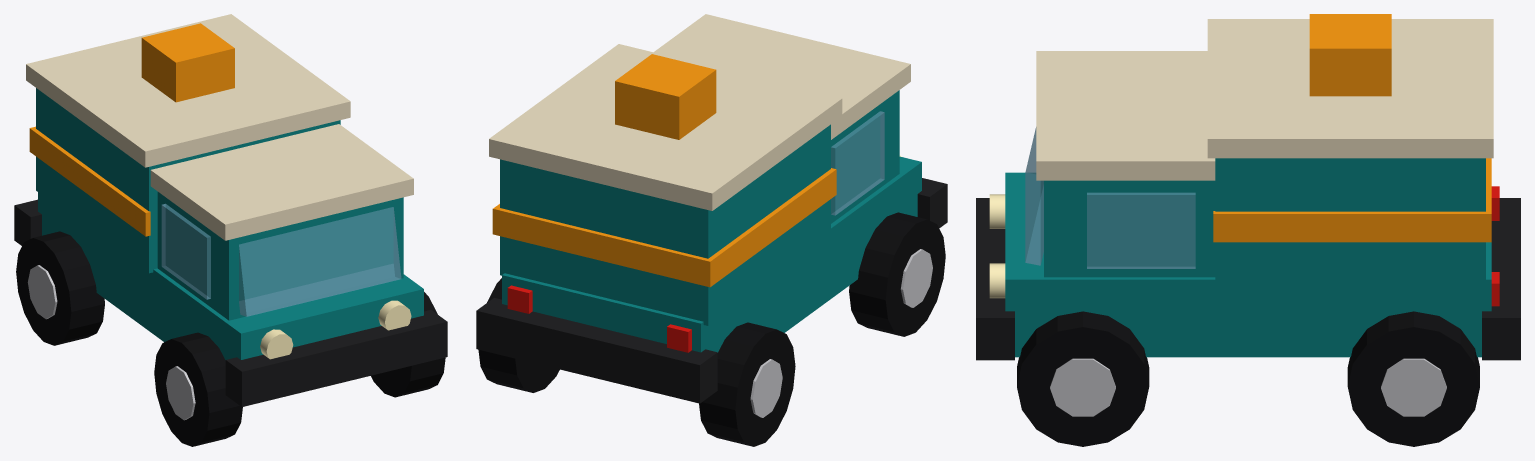
File: delivery-cart-grouped.fbx
3 renders of one model, left to right at view 1: azimuth 30°, elevation 25°; view 2: azimuth 150°, elevation 25°; view 3: azimuth 270°, elevation 25°, orthographic. The views are drawn at different scales.
Parts seen in each view (by area): view 1: CartBody, WheelRearLeft, WheelFrontLeft, WheelFrontRight; view 2: CartBody, WheelFrontLeft, WheelRearLeft, WheelRearRight; view 3: CartBody, WheelFrontRight, WheelRearRight.
Part boxes in pixels (box(x1,y1,x2,y2)): CartBody: box(14, 14, 447, 406); WheelRearLeft: box(16, 231, 104, 345); WheelFrontLeft: box(154, 332, 242, 446); WheelFrontRight: box(371, 292, 445, 397); CartBody: box(476, 14, 947, 403); WheelFrontLeft: box(849, 212, 945, 336); WheelRearLeft: box(699, 322, 795, 446); WheelRearRight: box(478, 278, 559, 392); CartBody: box(976, 14, 1520, 360); WheelFrontRight: box(1017, 311, 1149, 446); WheelRearRight: box(1347, 311, 1479, 446).
Size of the model in its own units: 122 by 140 by 200.
Materials: 9 (9 with a texture image).
